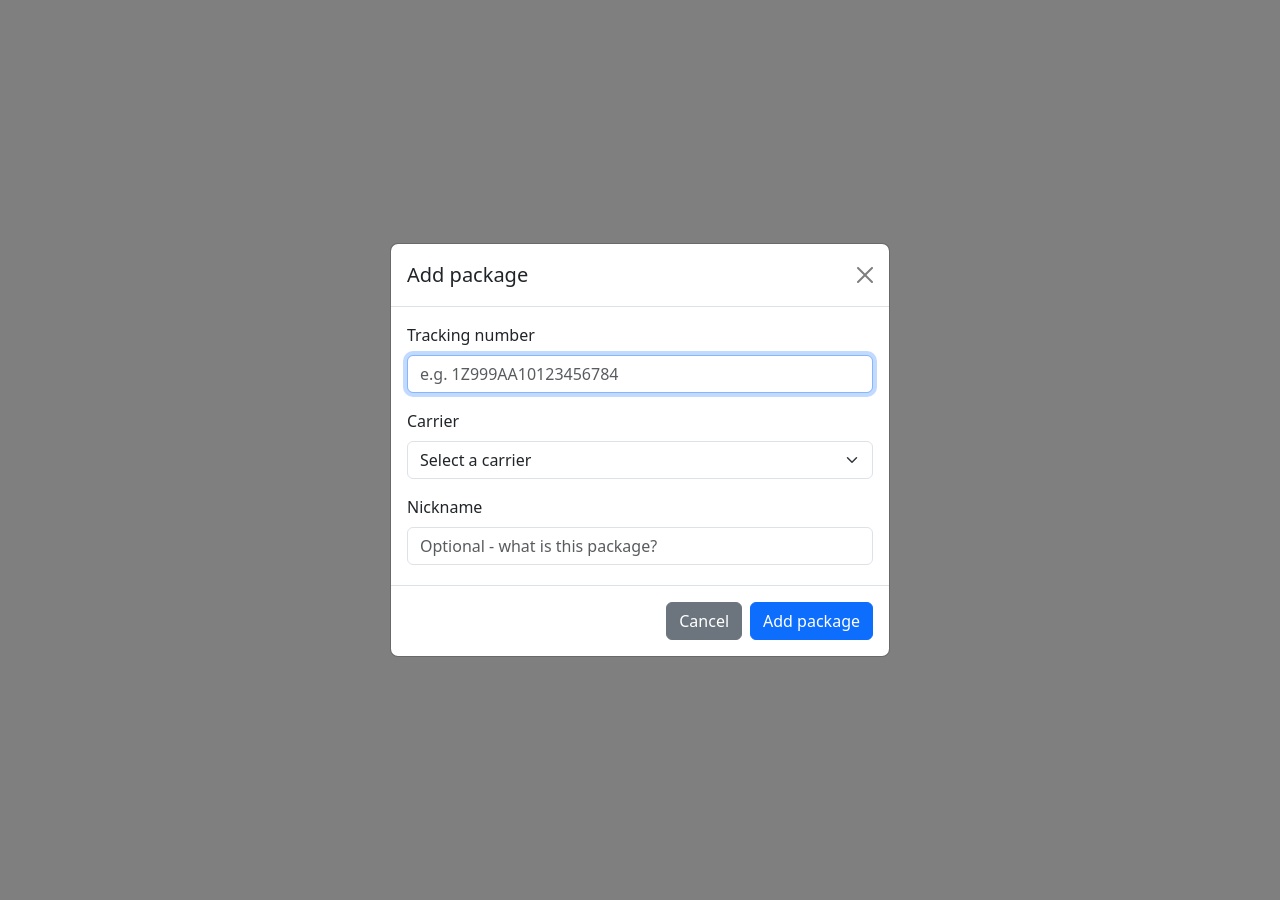
Scenario: AddPackageModal › on VALIDATION_FAILED, attaches invalid-feedback to the named field
Type "774988123312" into the field labelled "Tracking number" at (640, 374), box left=407, top=355, right=873, bottom=393
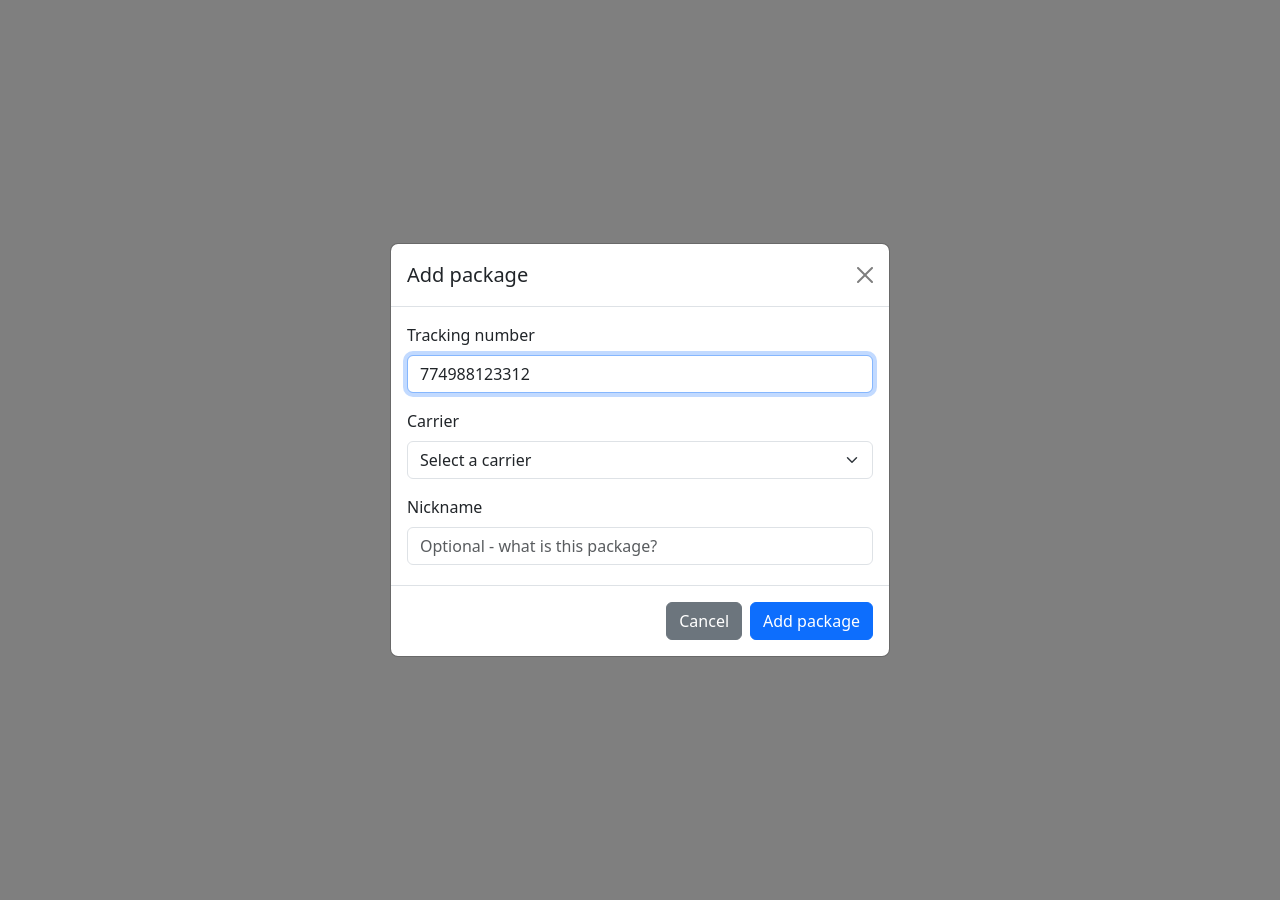
Press Tab
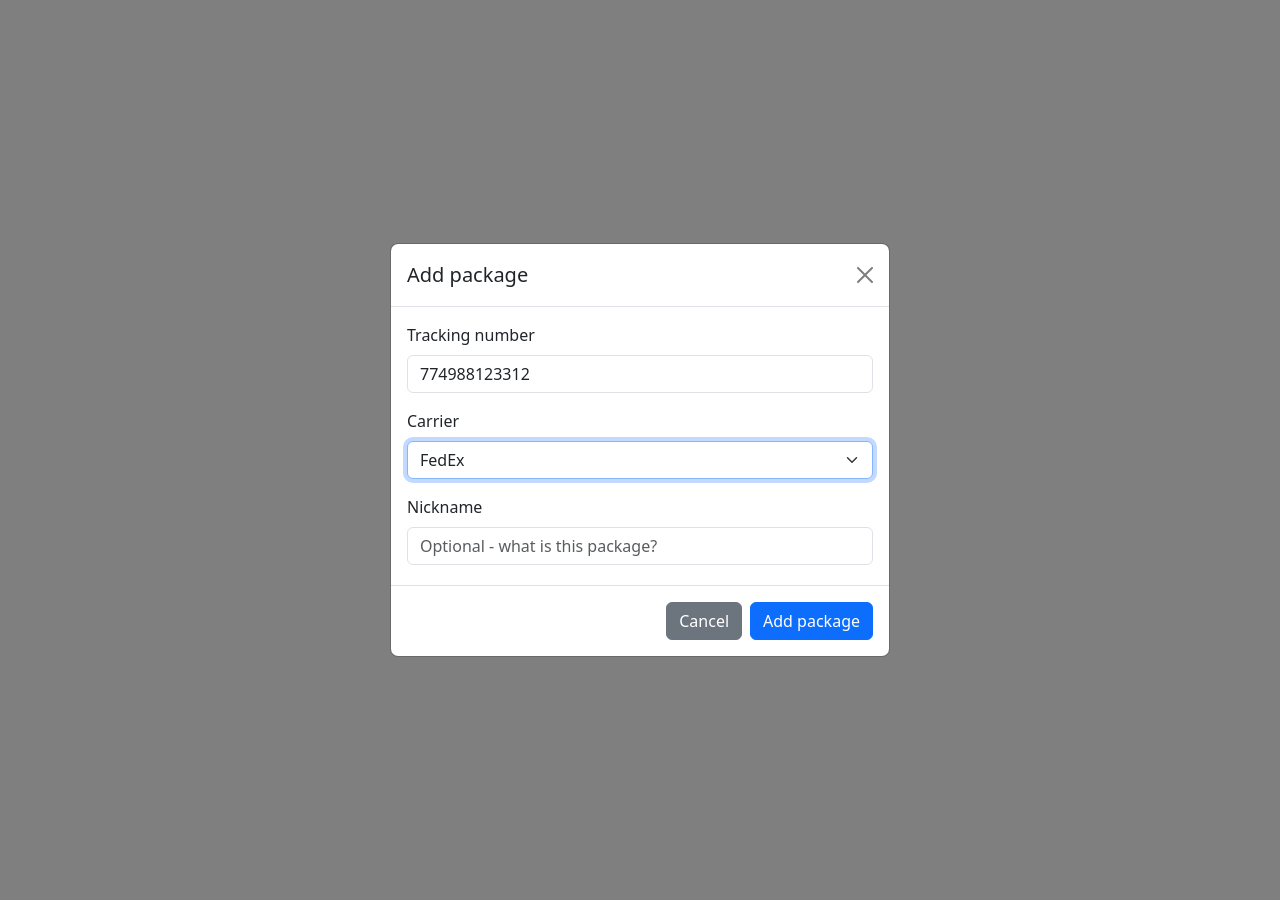
Click the button "Add package" at (812, 621), box left=750, top=602, right=873, bottom=640
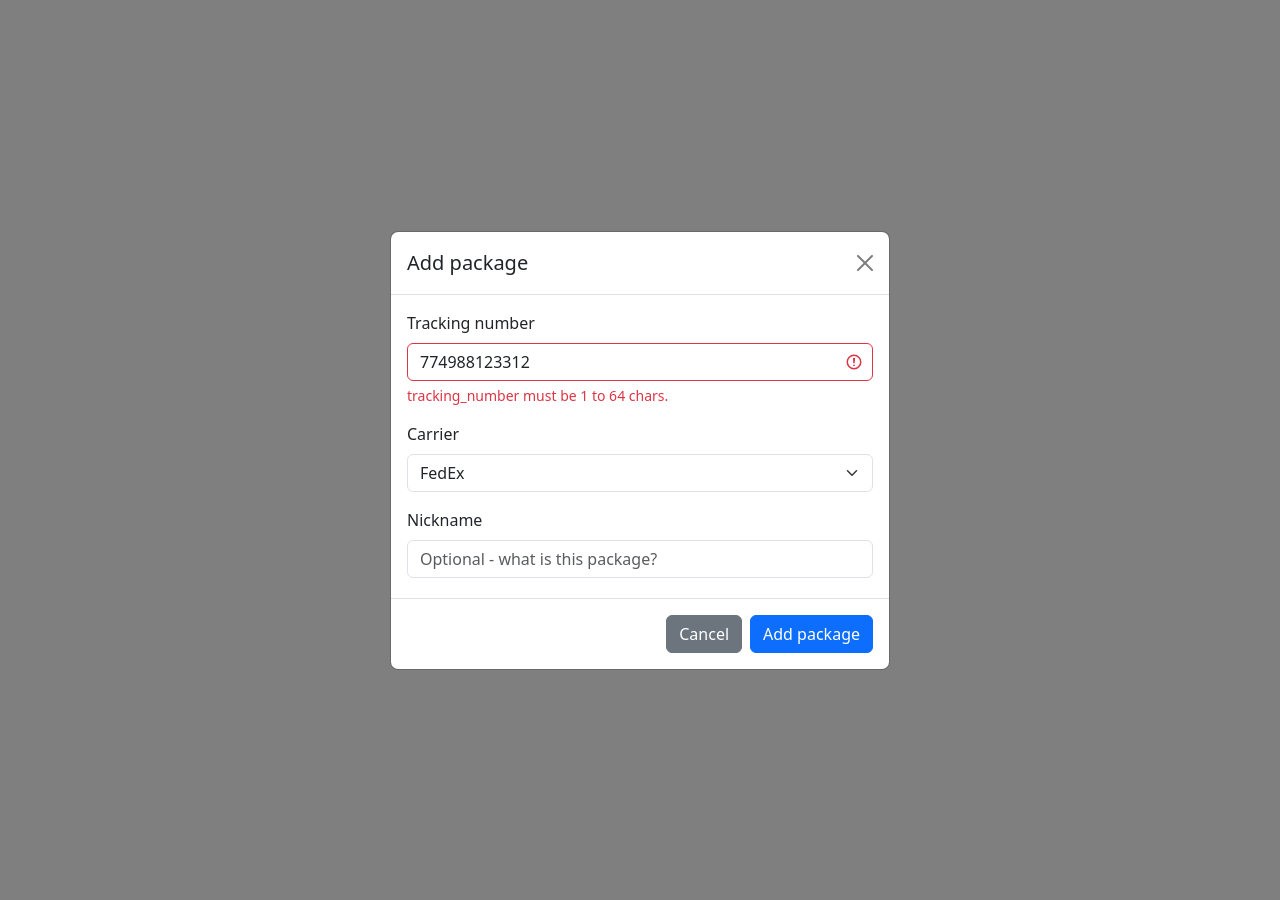
Result: the text "tracking_number must be 1 to 64 chars." is shown at left=407, top=386, right=668, bottom=404
